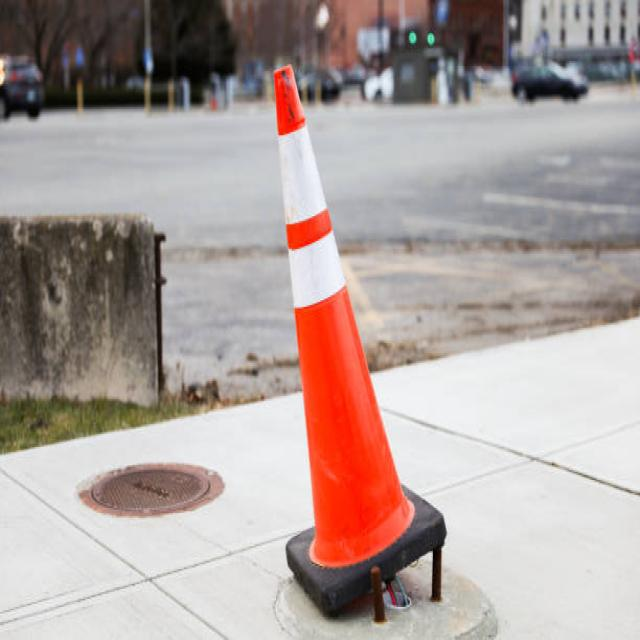Traffic Cone: (242, 31, 510, 638)
